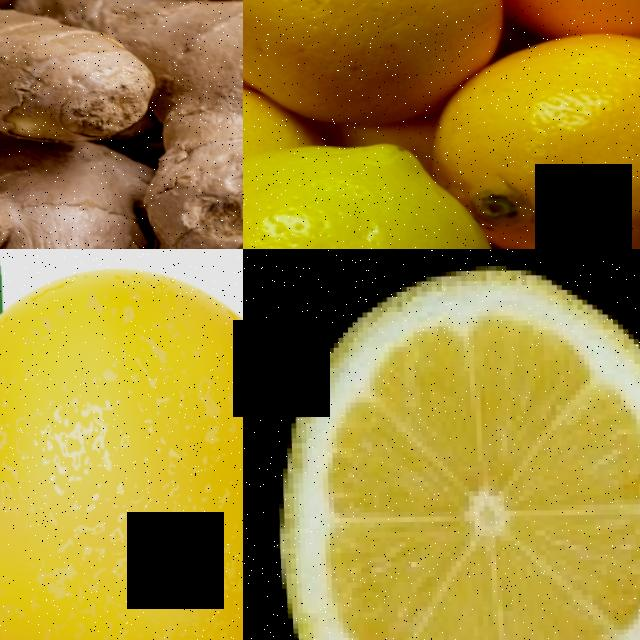ginger: (118, 0, 243, 249), (0, 0, 140, 144)
lemon: (245, 249, 640, 640), (0, 259, 243, 640), (452, 32, 640, 249), (243, 0, 470, 122), (243, 145, 485, 249)
